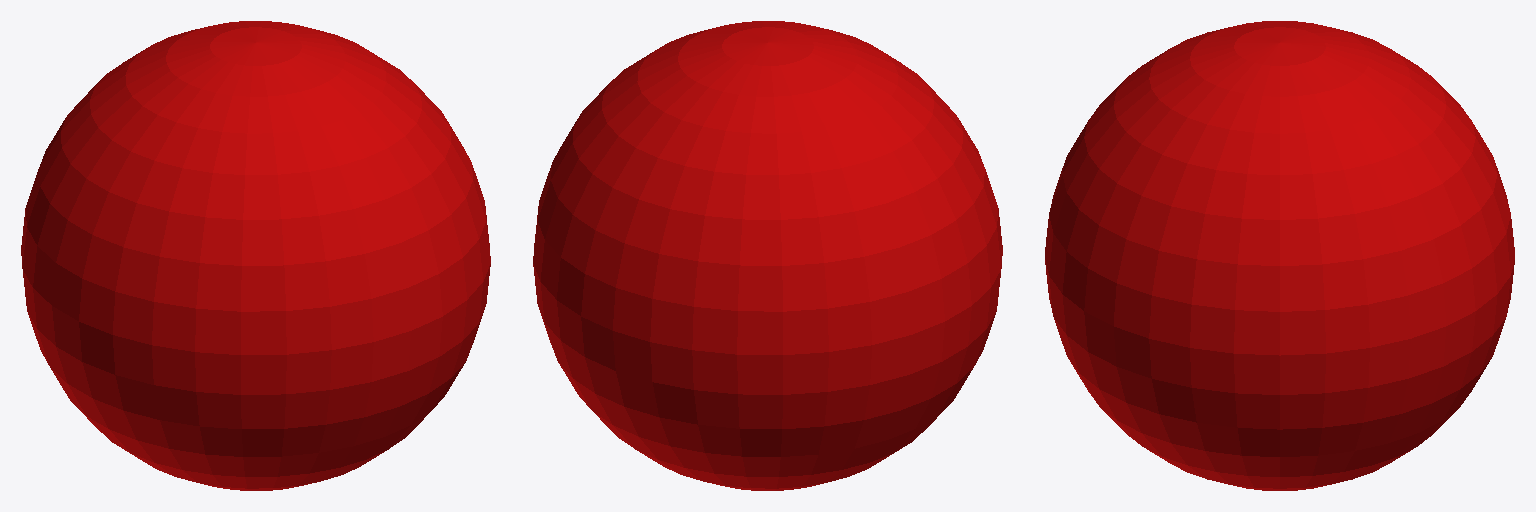
The model's file is FictionalPlanet1.obj.
3 views of the same model, side by side, from view 1: azimuth 30°, elevation 25°; view 2: azimuth 150°, elevation 25°; view 3: azimuth 270°, elevation 25° (orthographic).
Visible parts, largest first — view 1: Sphere; view 2: Sphere; view 3: Sphere.
Part boxes in pixels (bbox=[...]): Sphere: bbox=[21, 21, 490, 490]; Sphere: bbox=[533, 21, 1002, 490]; Sphere: bbox=[1045, 21, 1514, 490].
Size of the model in its own units: 20 by 20 by 20.